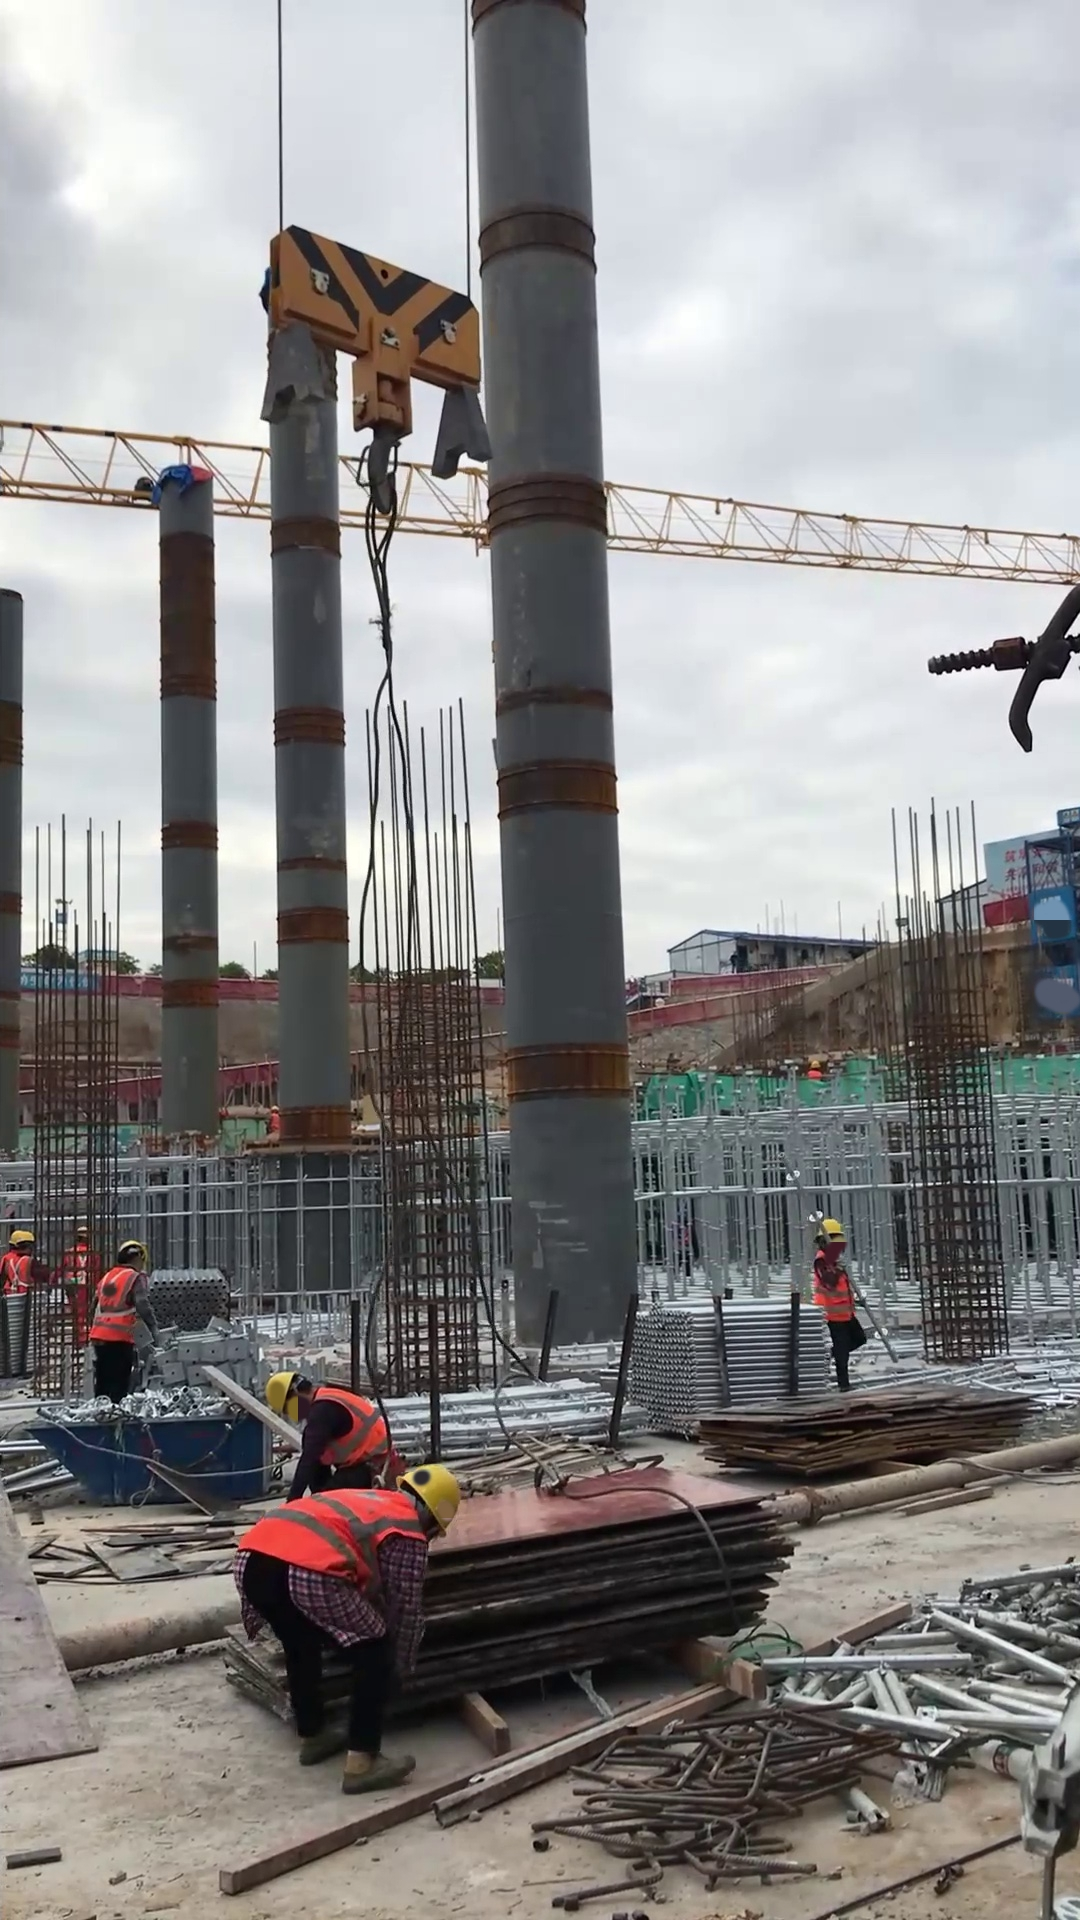helmet: (393, 1457, 464, 1537), (263, 1367, 299, 1417), (812, 1215, 843, 1242), (9, 1228, 33, 1246), (72, 1225, 90, 1241), (808, 1060, 821, 1070), (270, 1103, 279, 1111)
person: (231, 1458, 464, 1797), (259, 1369, 404, 1492), (87, 1239, 165, 1409), (809, 1216, 868, 1394), (57, 1223, 101, 1352), (1, 1228, 50, 1301), (264, 1103, 279, 1138)
vest: (235, 1484, 429, 1587), (307, 1385, 392, 1470), (89, 1263, 147, 1347), (810, 1249, 859, 1324), (60, 1241, 99, 1287), (2, 1252, 37, 1297), (268, 1114, 280, 1133)
